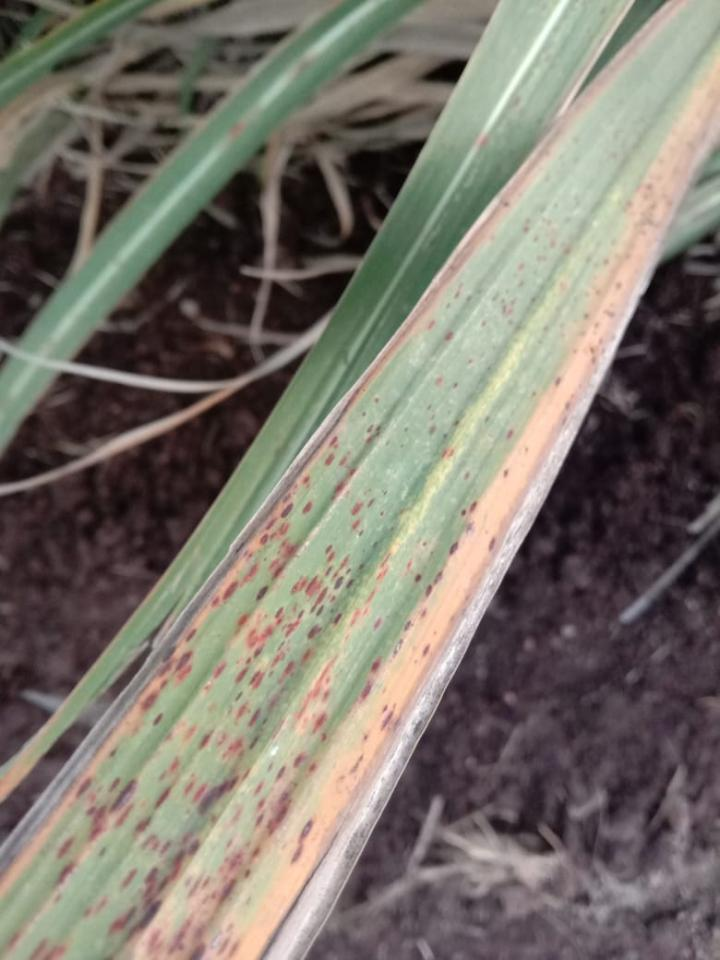Rust: (0, 68, 719, 959)
